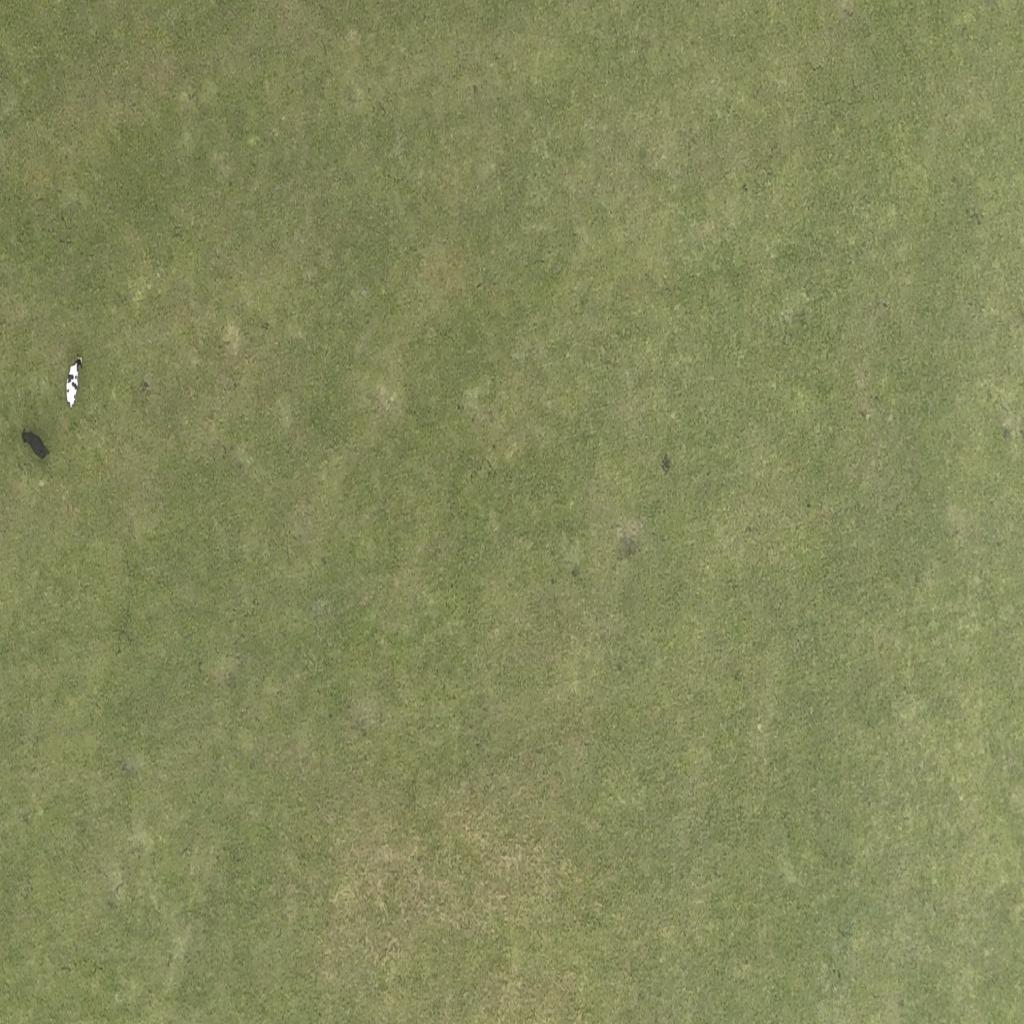cow: (18, 426, 52, 465), (64, 360, 82, 412)
